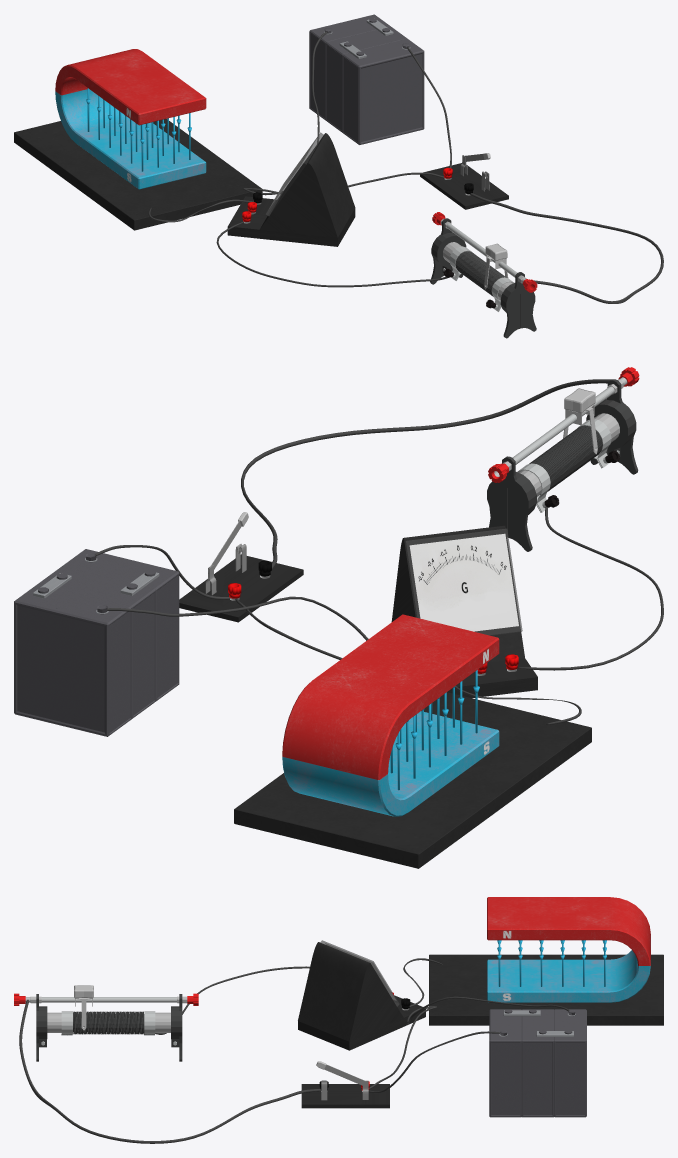
3 views of the same model, one above another, from view 1: azimuth 30°, elevation 25°; view 2: azimuth 150°, elevation 25°; view 3: azimuth 270°, elevation 25° (orthographic). The views are drawn at different scales.
Visible parts, largest first — view 1: 蹄形磁铁, 电池组, 底座, 立方体.001, 滑动变阻器, 立方体, Cube, 柱体.006, Line005, Line004.001, 滑动变阻器滑杆; view 2: 蹄形磁铁, 电池组, 底座, 滑动变阻器, 平面, Cube, 立方体.001, Line005, 立方体, 柱体.006, 立方体.002, Line004.001 (+2 smaller); view 3: 蹄形磁铁, 电池组, 底座, 立方体.001, 滑动变阻器, Cube, Line005, 立方体, 柱体.006, Line009, 滑动变阻器滑杆, 立方体.002 (+1 smaller).
Boxes of the visible parts, x1=… form: 蹄形磁铁: x1=55, y1=49, x2=206, y2=189; 电池组: x1=309, y1=14, x2=424, y2=144; 底座: x1=14, y1=119, x2=262, y2=230; 立方体.001: x1=260, y1=133, x2=355, y2=237; 滑动变阻器: x1=430, y1=212, x2=537, y2=338; 立方体: x1=227, y1=196, x2=355, y2=246; Cube: x1=420, y1=163, x2=508, y2=209; 柱体.006: x1=87, y1=88, x2=190, y2=171; Line005: x1=470, y1=193, x2=663, y2=303; Line004.001: x1=216, y1=221, x2=449, y2=287; 滑动变阻器滑杆: x1=484, y1=243, x2=508, y2=289; 蹄形磁铁: x1=282, y1=614, x2=499, y2=816; 电池组: x1=14, y1=549, x2=179, y2=736; 底座: x1=234, y1=692, x2=591, y2=868; 滑动变阻器: x1=487, y1=367, x2=639, y2=551; 平面: x1=409, y1=533, x2=518, y2=631; Cube: x1=179, y1=554, x2=303, y2=622; 立方体.001: x1=391, y1=525, x2=524, y2=662; Line005: x1=241, y1=379, x2=611, y2=569; 立方体: x1=447, y1=658, x2=537, y2=698; 柱体.006: x1=390, y1=670, x2=477, y2=790; 立方体.002: x1=404, y1=528, x2=522, y2=635; Line004.001: x1=517, y1=506, x2=663, y2=670; 蹄形磁铁: x1=487, y1=897, x2=650, y2=1002; 电池组: x1=489, y1=1009, x2=586, y2=1117; 底座: x1=429, y1=954, x2=663, y2=1025; 立方体.001: x1=298, y1=942, x2=403, y2=1041; 滑动变阻器: x1=14, y1=993, x2=198, y2=1061; Cube: x1=301, y1=1084, x2=389, y2=1108; Line005: x1=19, y1=999, x2=320, y2=1143; 立方体: x1=298, y1=995, x2=425, y2=1050; 柱体.006: x1=498, y1=940, x2=605, y2=986; Line009: x1=407, y1=996, x2=569, y2=1024; 滑动变阻器滑杆: x1=74, y1=985, x2=93, y2=1030; 立方体.002: x1=320, y1=940, x2=399, y2=1006.
Bounding box in the file's own units: 247 × 55.44 × 378.
